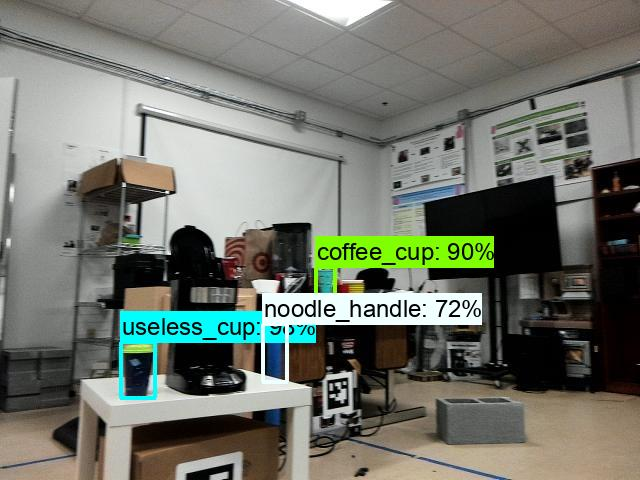coffee_cup: (314, 267, 336, 294)
noodle_handle: (263, 326, 286, 383)
useless_cup: (119, 343, 157, 397)
